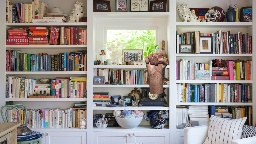Pugno: (144, 52, 168, 70)
